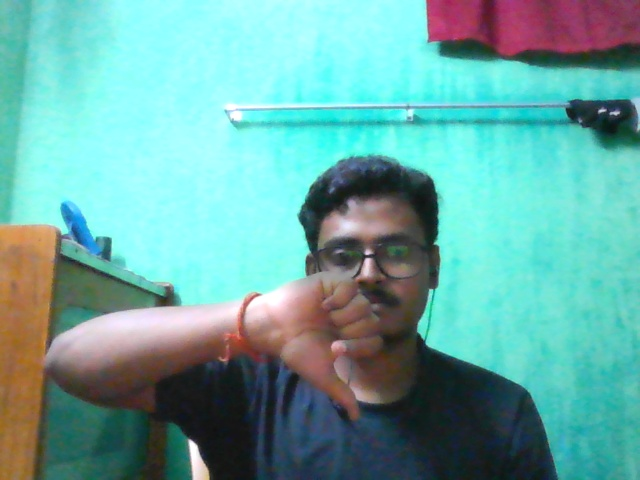ThumbsDown: (260, 268, 385, 424)
